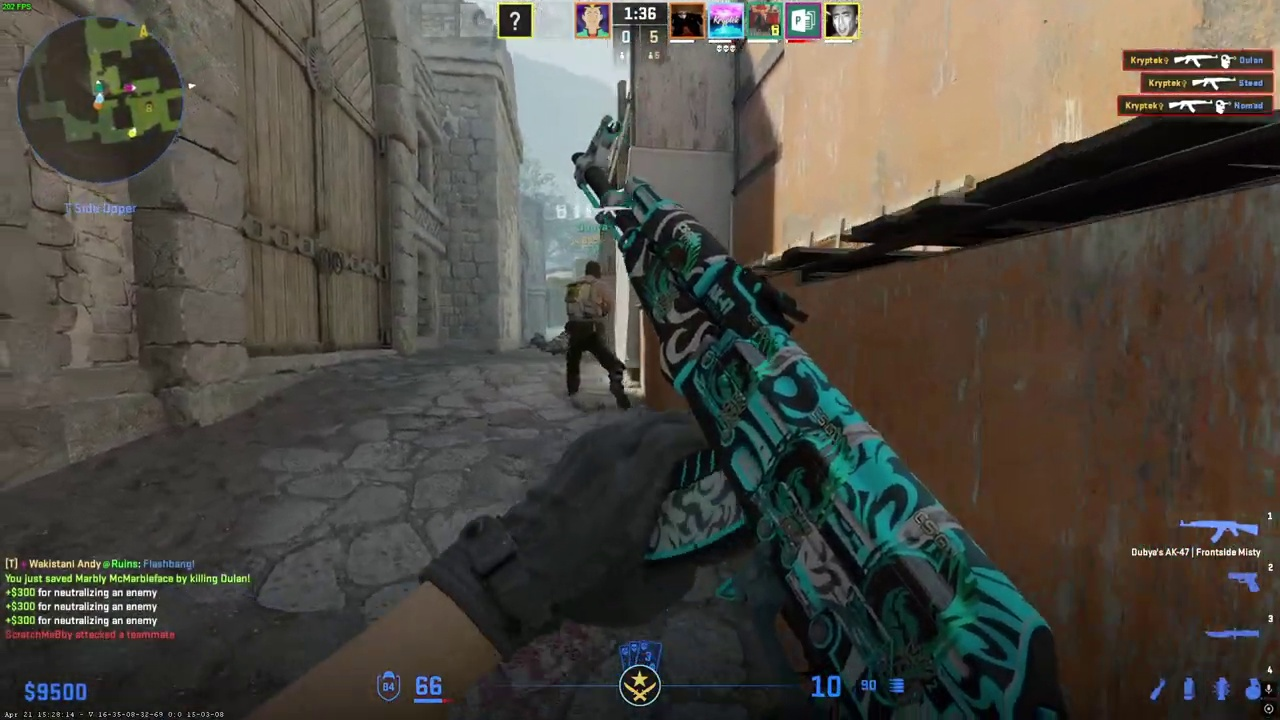Terrorist: (564, 260, 631, 411)
